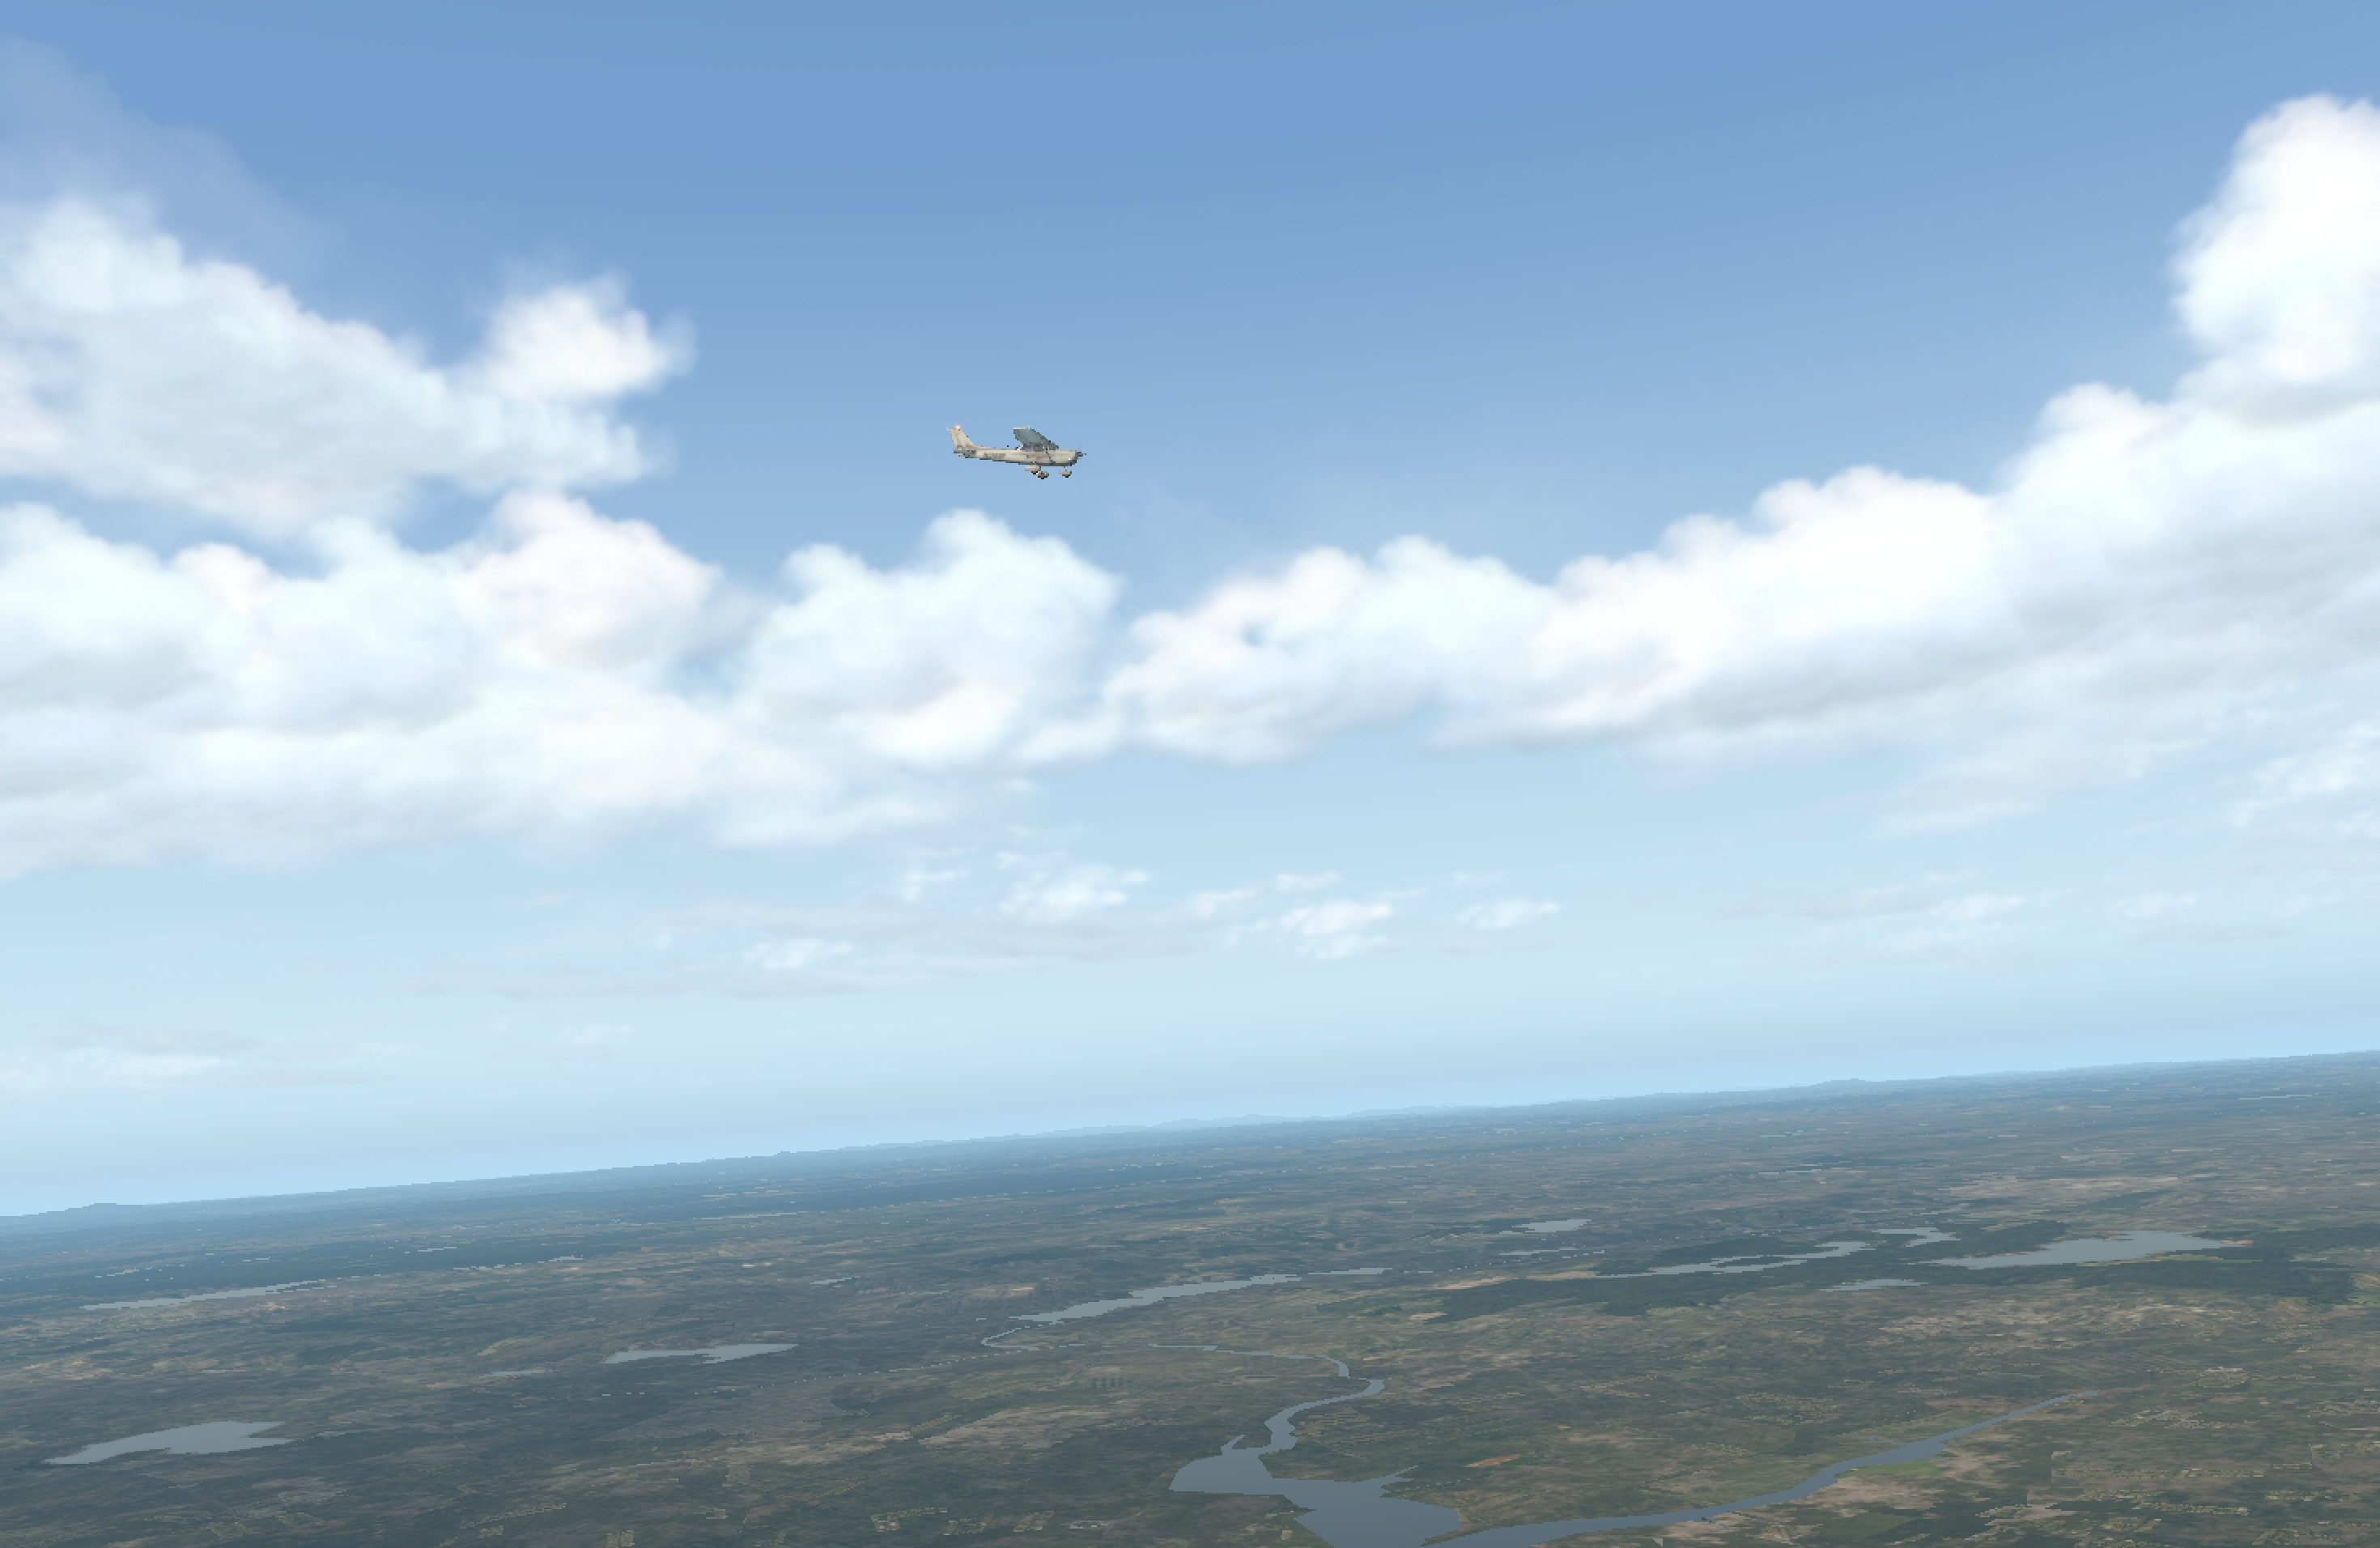aircraft: (978, 428, 1111, 478)
